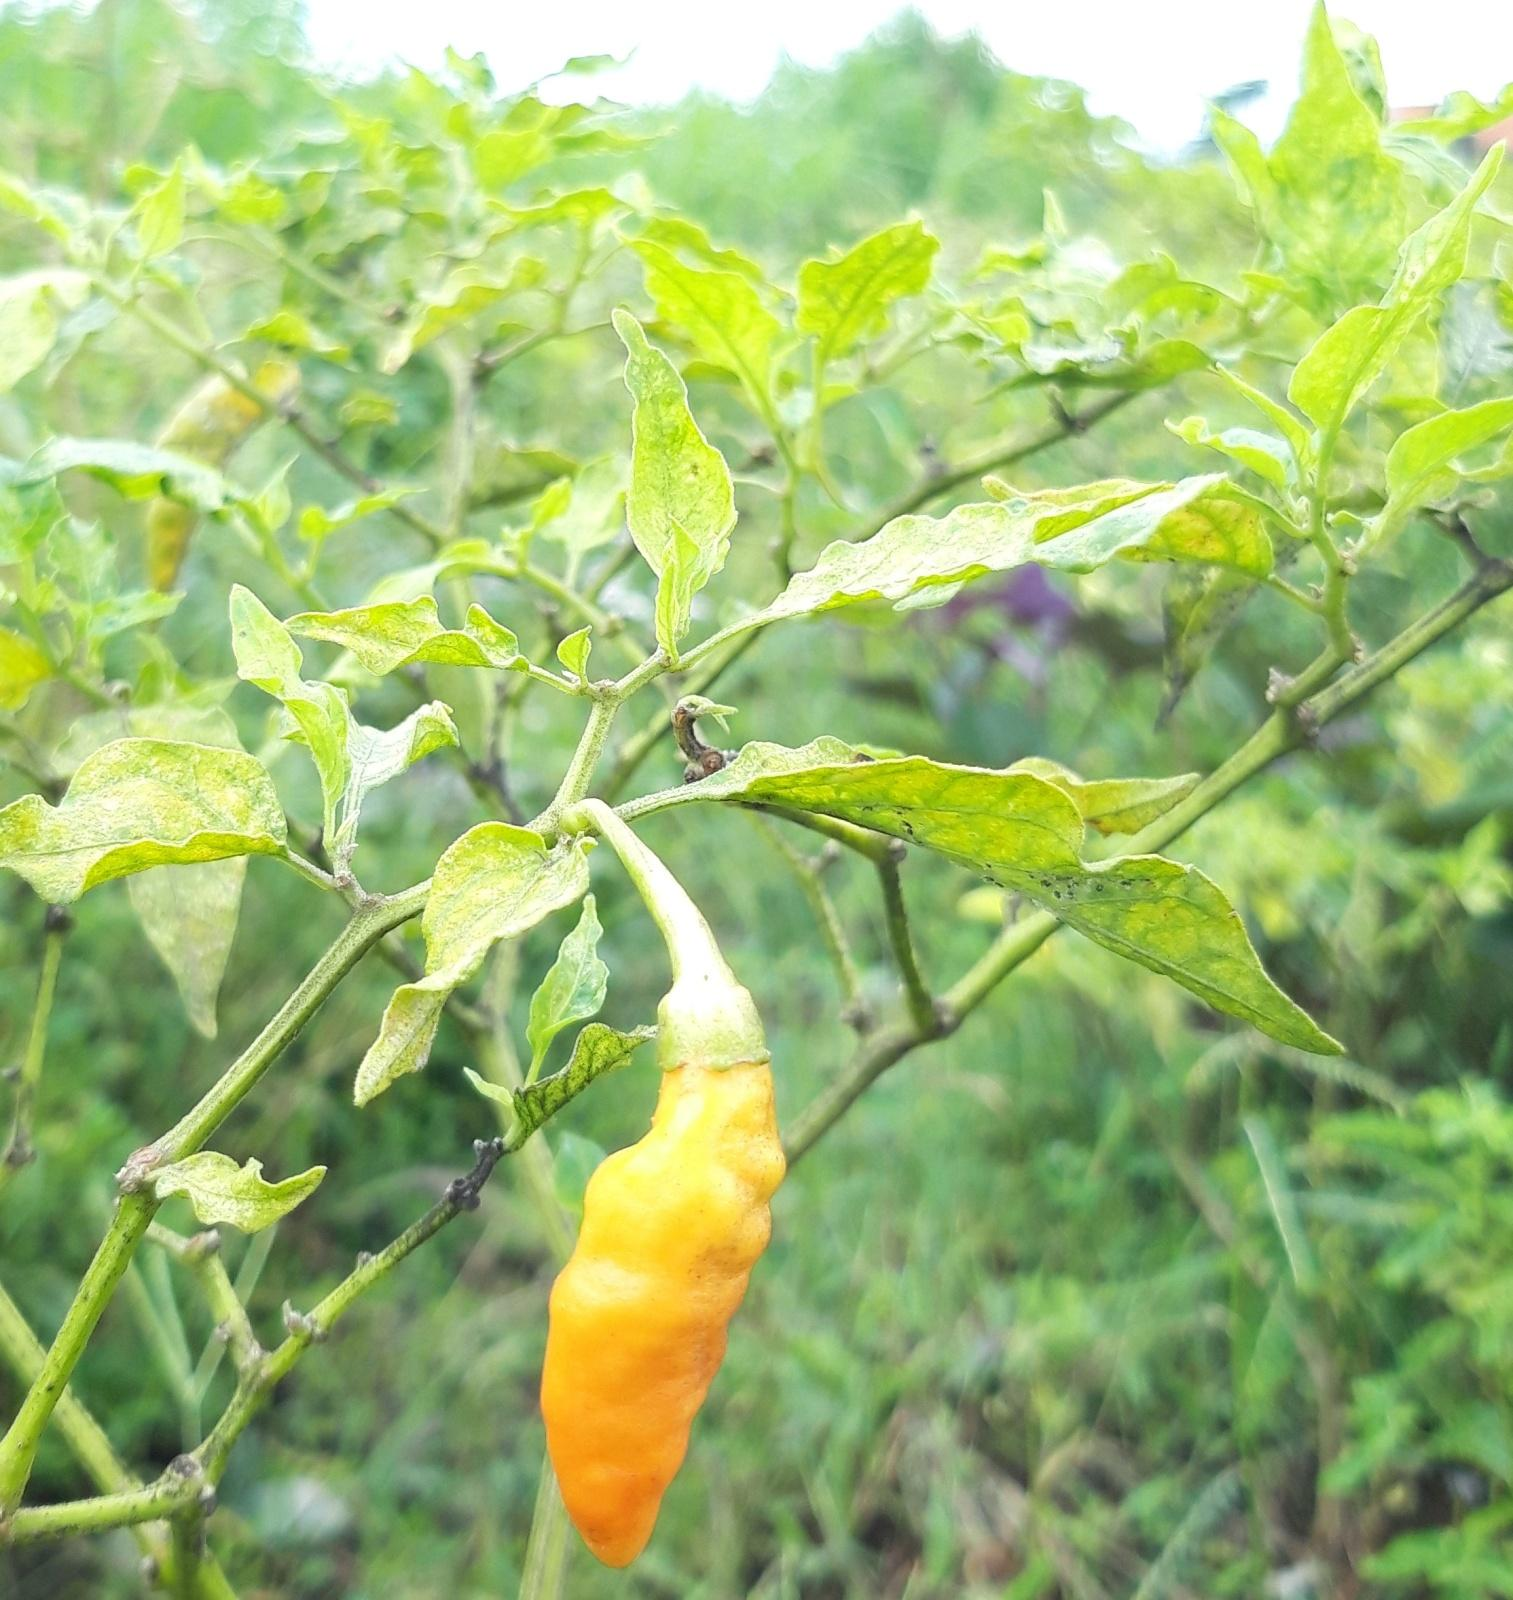cabai_normal: (538, 981, 799, 1573)
